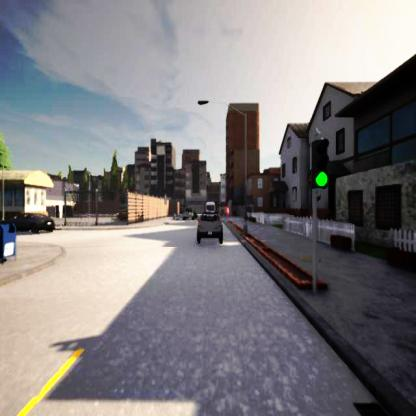vehicle: (3, 212, 54, 234), (195, 213, 224, 241)
